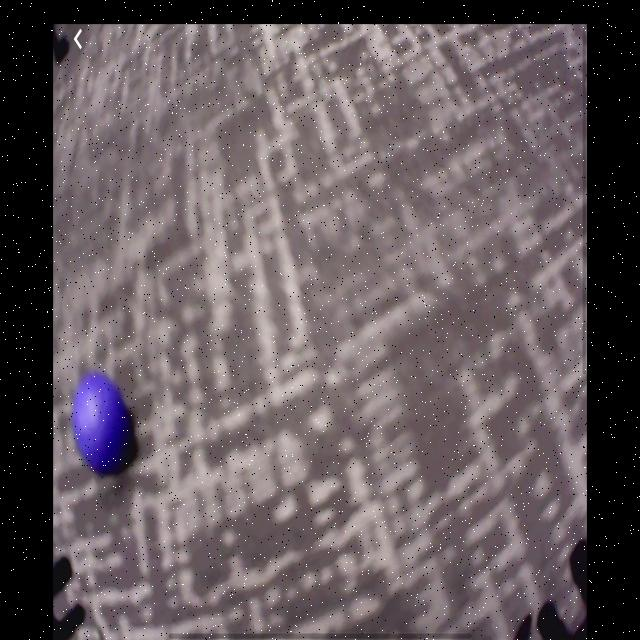ball: (72, 375, 129, 472)
